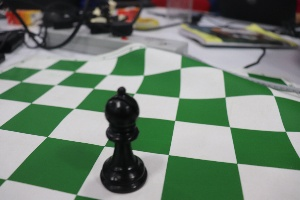black_bishop: (90, 81, 152, 198)
